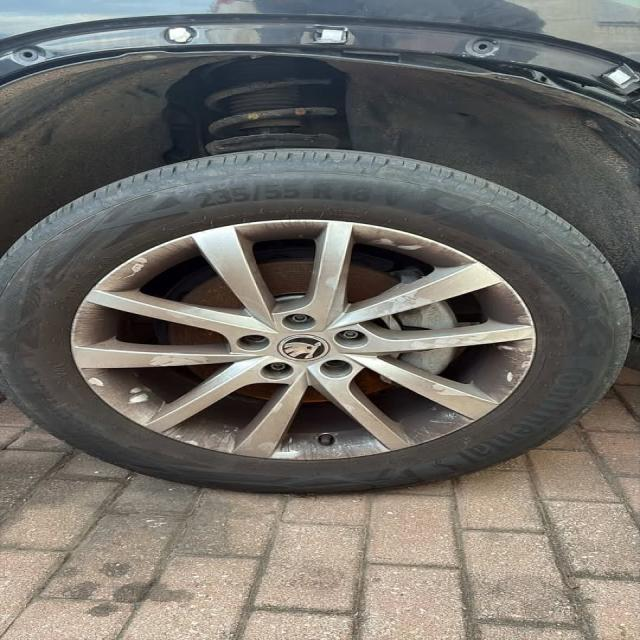jante: (71, 217, 541, 458)
parafuso: (245, 358, 305, 386), (267, 310, 324, 335), (228, 332, 276, 358), (330, 324, 374, 351), (314, 358, 364, 381)
roda: (0, 146, 640, 494)
